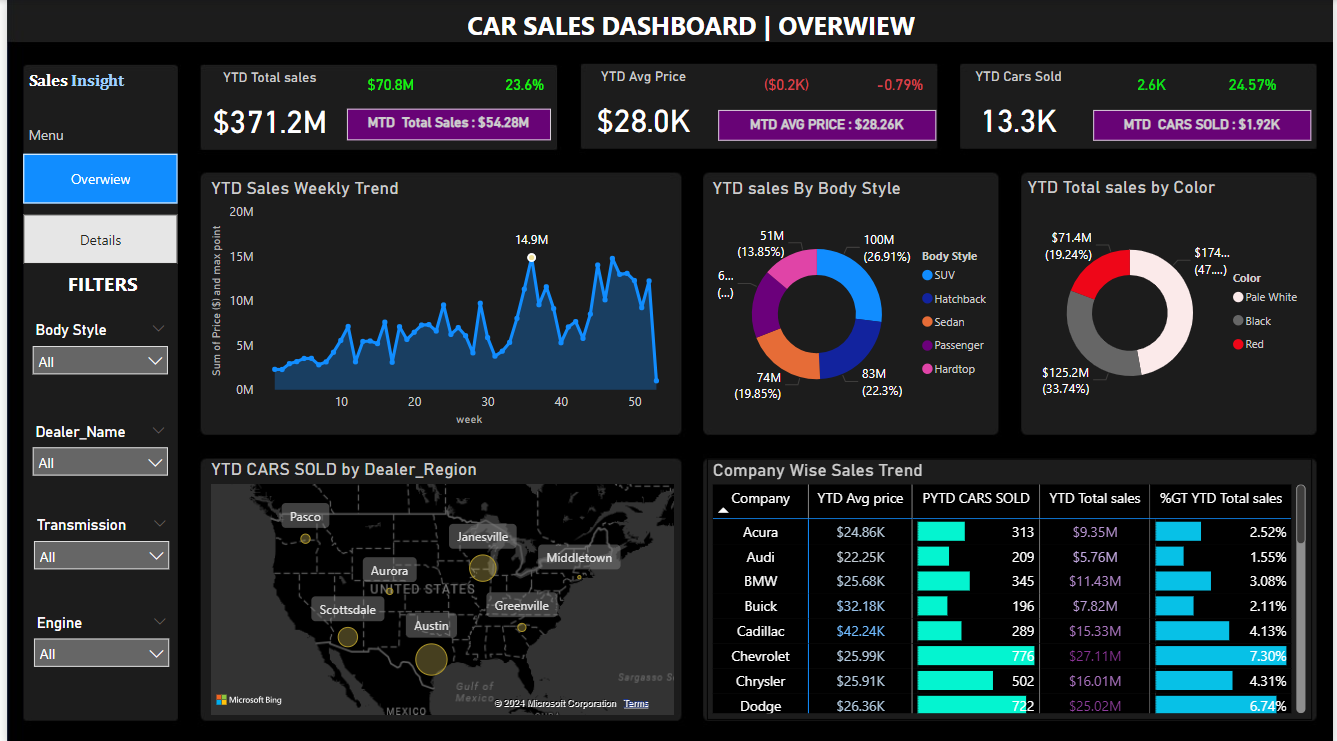

What the dashboard file says about the page in this screenshot:
{"tool":"powerbi","page":{"name":"Overwiew","canvas":[1280,720],"ordinal":0},"visuals":[{"type":"card","title":"YTD Total sales ","fields":{"Values":["measure.YTD Total sales"]},"box":[192,67.3,123.5,81.9],"z":0},{"type":"card","fields":{"Values":["measure.Sales Difference"]},"box":[315.5,62.4,111.3,41.6],"z":1000},{"type":"card","fields":{"Values":["measure.% sales difference"]},"box":[446.3,62.4,106.4,41.6],"z":2000},{"type":"card","fields":{"Values":["measure.MTD KPI"]},"box":[328.2,105,196.6,30],"z":3000},{"type":"card","title":"YTD Avg Price","fields":{"Values":["measure.YTD Avg price"]},"box":[552.7,66,123.5,81.9],"z":4000},{"type":"card","fields":{"Values":["measure.YTD SALES DIFFERENCE"]},"box":[695.8,62.4,112.5,41.6],"z":5000},{"type":"card","fields":{"Values":["measure.% AVG PRICE DIFF"]},"box":[808.3,62.4,106.4,41.6],"z":6000},{"type":"card","fields":{"Values":["measure.AVG MTD KPI"]},"box":[686,106.4,210.3,29.3],"z":7000},{"type":"card","title":"YTD Cars Sold ","fields":{"Values":["measure.YTD CARS SOLD"]},"box":[914.6,66,123.5,83.1],"z":8000},{"type":"card","fields":{"Values":["measure.YTD CARS SOLD DIFFERENCE"]},"box":[1047.9,62.4,112.5,41.6],"z":9000},{"type":"card","fields":{"Values":["measure.MTD CAR SOLD KPI"]},"box":[1047.9,106.4,210.3,29.3],"z":10000},{"type":"card","fields":{"Values":["measure.% CAR SOLD DIFF"]},"box":[1146.1,62.7,112.2,41],"z":11000},{"type":"areaChart","title":"YTD Sales  Weekly Trend","fields":{"Y":["Sum(car_data.Price ($))","measure.max point"],"Category":["calander.week"]},"box":[191.8,171.3,457.2,244.9],"z":12000},{"type":"donutChart","title":"YTD sales By Body Style","fields":{"Category":["car_data.Body Style"],"Y":["Sum(car_data.Price ($))"]},"box":[675.6,171.3,283.5,244.9],"z":13000},{"type":"donutChart","fields":{"Category":["car_data.Color"],"Y":["measure.YTD Total sales"]},"box":[979.7,170.7,279.6,244.9],"z":14000},{"type":"map","fields":{"Category":["car_data.Dealer_Region"],"Size":["measure.YTD CARS SOLD"]},"box":[191.8,442.8,457.2,252.1],"z":15000},{"type":"pivotTable","title":"Company Wise Sales Trend","fields":{"Rows":["car_data.Company"],"Values":["measure.YTD Avg price","measure.PYTD CARS SOLD","measure.YTD Total sales","Divide(measure.YTD Total sales, ScopedEval(measure.YTD Total sales, []))"]},"box":[675.6,442.8,583.9,252.1],"z":16000},{"type":"textbox","box":[439.1,3.6,472.9,63.9],"z":17000},{"type":"slicer","fields":{"Values":["car_data.Body Style"]},"box":[14.8,305.5,150.9,73],"z":18000},{"type":"slicer","fields":{"Values":["car_data.Dealer_Name"]},"box":[14.8,403.2,150.9,79.2],"z":19000},{"type":"slicer","fields":{"Values":["car_data.Transmission"]},"box":[16.1,493.5,150.9,75.5],"z":20000},{"type":"slicer","fields":{"Values":["car_data.Engine"]},"box":[16.1,587.6,150.9,81.6],"z":21000},{"type":"textbox","box":[30.9,256.1,122.5,37.1],"z":22000},{"type":"textbox","box":[16.1,63.1,122.5,37.1],"z":23000},{"type":"pageNavigator","box":[16.1,148.4,149.7,107.6],"z":24000},{"type":"textbox","box":[16.1,116.3,122.5,37.1],"z":25000}]}

Visuals, with their boxes on the page's 1280x720 design canvas (x1, y1, x2, y2). These are canvas units, not pixel positions in the 1337x741 screenshot, which may show the page scaled, cropped or inside an application window:
"YTD Total sales " card: region(192, 67, 316, 149)
card - measure.Sales Difference: region(316, 62, 427, 104)
card - measure.% sales difference: region(446, 62, 553, 104)
card - measure.MTD KPI: region(328, 105, 525, 135)
"YTD Avg Price" card: region(553, 66, 676, 148)
card - measure.YTD SALES DIFFERENCE: region(696, 62, 808, 104)
card - measure.% AVG PRICE DIFF: region(808, 62, 915, 104)
card - measure.AVG MTD KPI: region(686, 106, 896, 136)
"YTD Cars Sold " card: region(915, 66, 1038, 149)
card - measure.YTD CARS SOLD DIFFERENCE: region(1048, 62, 1160, 104)
card - measure.MTD CAR SOLD KPI: region(1048, 106, 1258, 136)
card - measure.% CAR SOLD DIFF: region(1146, 63, 1258, 104)
"YTD Sales  Weekly Trend" areaChart: region(192, 171, 649, 416)
"YTD sales By Body Style" donutChart: region(676, 171, 959, 416)
donutChart - car_data.Color x measure.YTD Total sales: region(980, 171, 1259, 416)
map - car_data.Dealer_Region x measure.YTD CARS SOLD: region(192, 443, 649, 695)
"Company Wise Sales Trend" pivotTable: region(676, 443, 1260, 695)
textbox: region(439, 4, 912, 68)
slicer - car_data.Body Style: region(15, 306, 166, 378)
slicer - car_data.Dealer_Name: region(15, 403, 166, 482)
slicer - car_data.Transmission: region(16, 494, 167, 569)
slicer - car_data.Engine: region(16, 588, 167, 669)
textbox: region(31, 256, 153, 293)
textbox: region(16, 63, 139, 100)
pageNavigator: region(16, 148, 166, 256)
textbox: region(16, 116, 139, 153)
